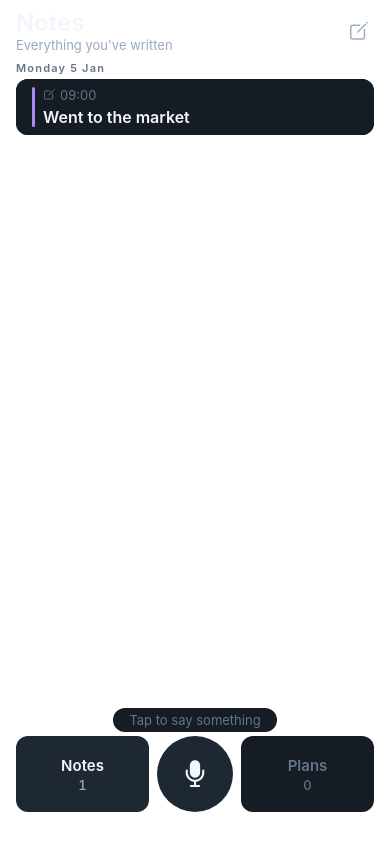
Test case: notes and plans › says what an empty list of plans is for, rather than the diary’s line
What coordinates should you click on to do the following:
click the tab with aria-label "Plans, 0 entries"
I would click on:
 (308, 774)
Its box is x1=241 y1=736 x2=374 y2=812.
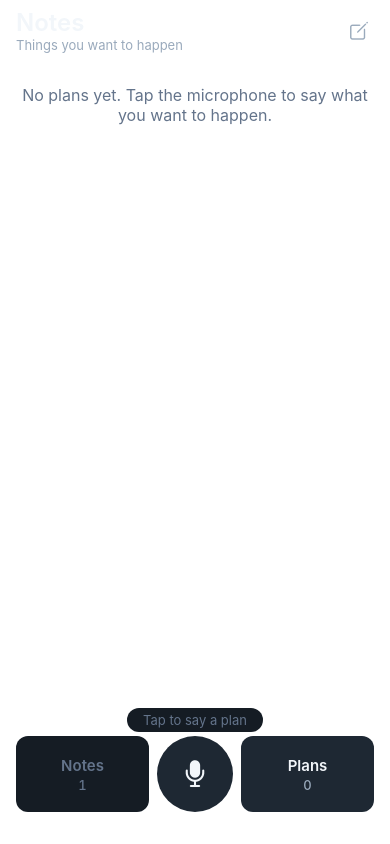
Now the text "No plans yet. Tap the microphone to say what you want to happen." is shown, box x1=22 y1=85 x2=372 y2=125
